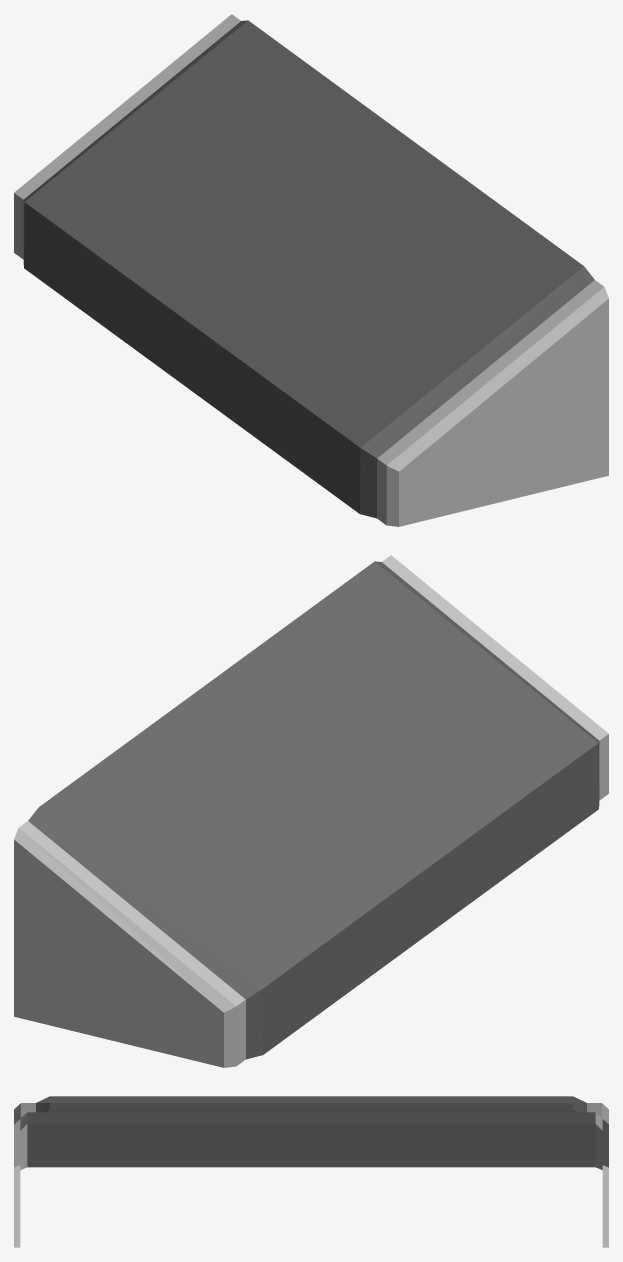
Rendered from awning_A.FBX.
3 renders of one model, top to bottom at view 1: azimuth 30°, elevation 25°; view 2: azimuth 150°, elevation 25°; view 3: azimuth 270°, elevation 25°, orthographic. The views are drawn at different scales.
Visible parts, largest first — view 1: awning_A; view 2: awning_A; view 3: awning_A.
Boxes of the visible parts, <box> form: awning_A: <box>14,14,608,526</box>; awning_A: <box>14,555,608,1067</box>; awning_A: <box>14,1096,608,1247</box>.
Size of the model in its own units: 69.34 by 56.58 by 203.
